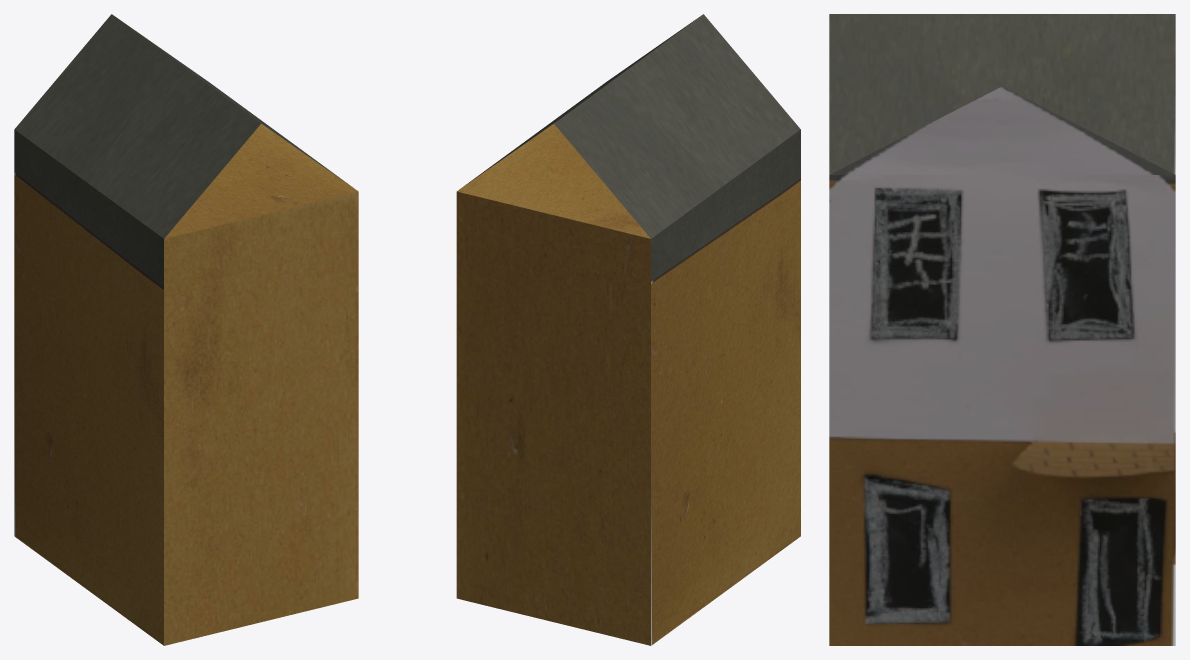
The model's file is rmj.gltf.
3 views of the same model, side by side, from view 1: azimuth 30°, elevation 25°; view 2: azimuth 150°, elevation 25°; view 3: azimuth 270°, elevation 25° (orthographic). The views are drawn at different scales.
Parts seen in each view (by area): view 1: Cube; view 2: Cube; view 3: Cube.
Boxes of the visible parts, x1,y1,x2,y2 form: Cube: [14, 14, 358, 645]; Cube: [456, 14, 800, 645]; Cube: [829, 14, 1175, 645].
Size of the model in its own units: 10.2 by 18.38 by 10.
Materials: 1 (1 with a texture image).
